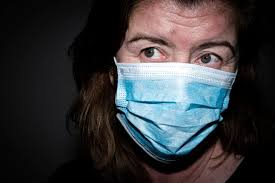mask: (110, 61, 227, 162)
